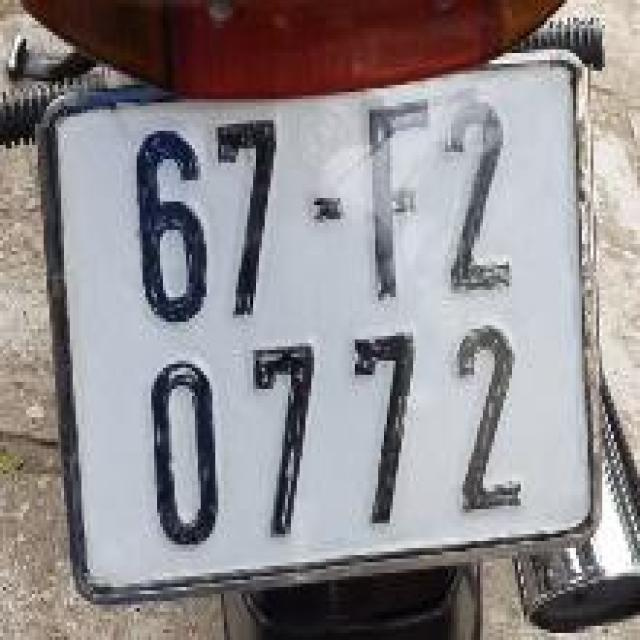0: (144, 357, 228, 552)
2: (451, 316, 535, 514), (445, 88, 524, 297)
6: (132, 125, 214, 324)
7: (247, 339, 329, 541), (214, 113, 289, 322), (352, 329, 422, 537)
F: (359, 96, 435, 304)
